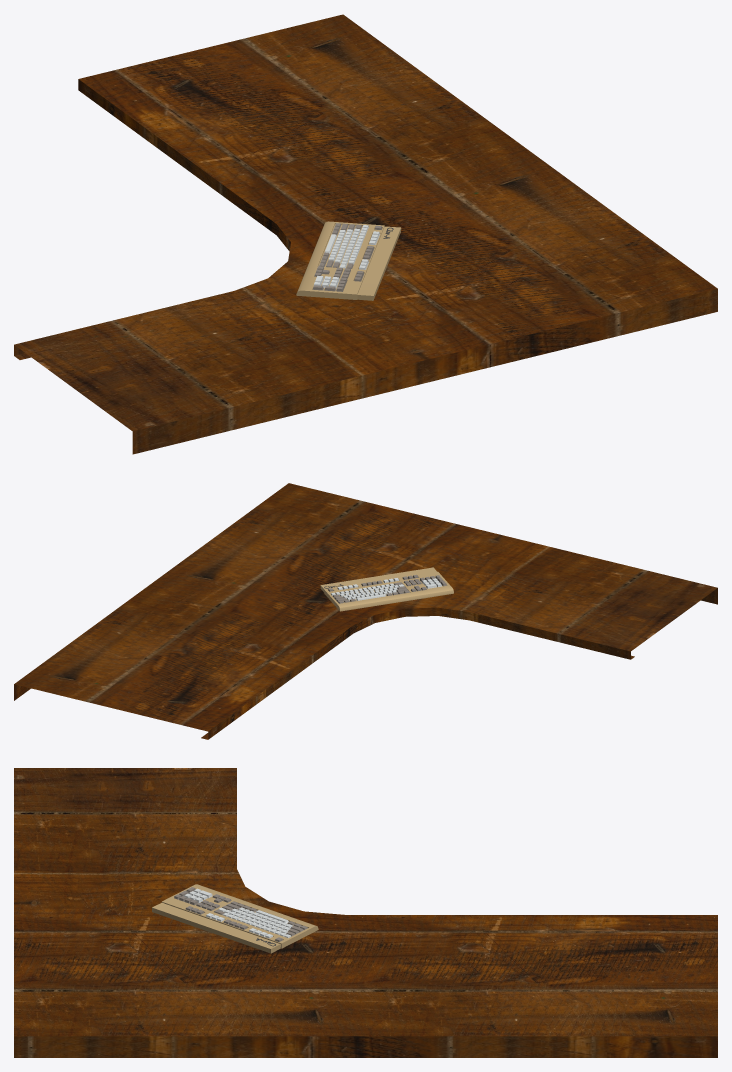
Rendered from Table_Test.glb.
3 renders of one model, top to bottom at view 1: azimuth 30°, elevation 25°; view 2: azimuth 150°, elevation 25°; view 3: azimuth 270°, elevation 25°, orthographic. The views are drawn at different scales.
Visible parts, largest first — view 1: Cube, Key_Board; view 2: Cube, Key_Board; view 3: Cube, Key_Board.
Boxes of the visible parts, x1,y1,x2,y2 form: Cube: [14, 14, 717, 454]; Key_Board: [296, 221, 401, 300]; Cube: [14, 483, 717, 739]; Key_Board: [320, 567, 453, 611]; Cube: [14, 768, 717, 1057]; Key_Board: [152, 884, 318, 953].
Size of the model in its own units: 6.9 by 0.347 by 7.65.
5 materials, 1 textured.
